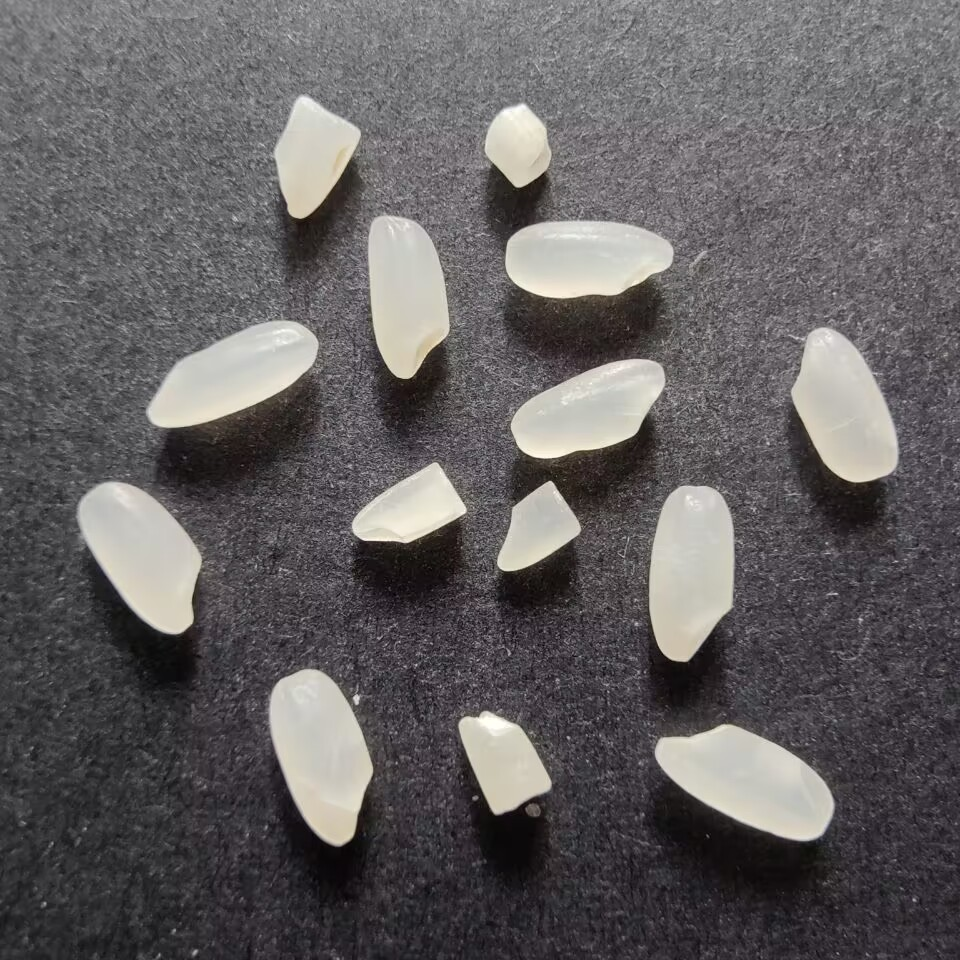broken: (266, 93, 364, 225), (451, 704, 559, 817), (345, 457, 472, 549), (494, 478, 584, 576), (477, 101, 561, 190)
rice: (650, 721, 836, 847), (71, 481, 208, 639), (263, 667, 377, 855), (142, 319, 320, 432), (791, 322, 900, 487), (505, 355, 670, 461), (646, 481, 739, 663), (364, 214, 456, 380), (499, 217, 676, 301)
